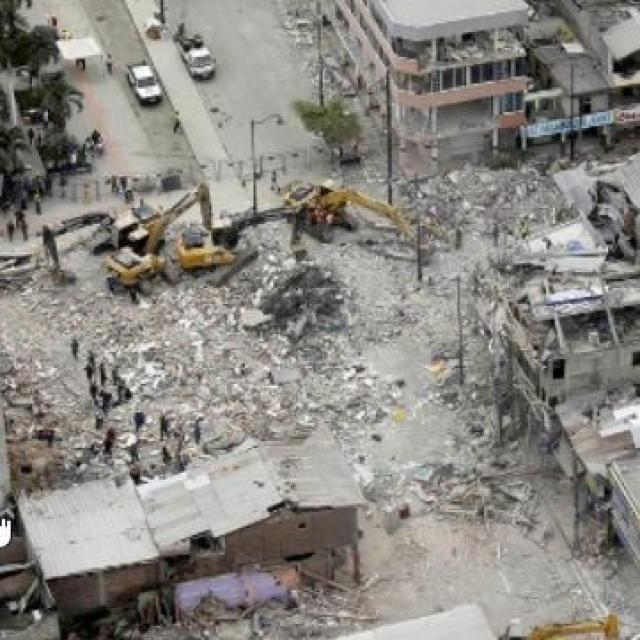collapsed_building: (0, 247, 308, 465), (402, 169, 539, 355)
